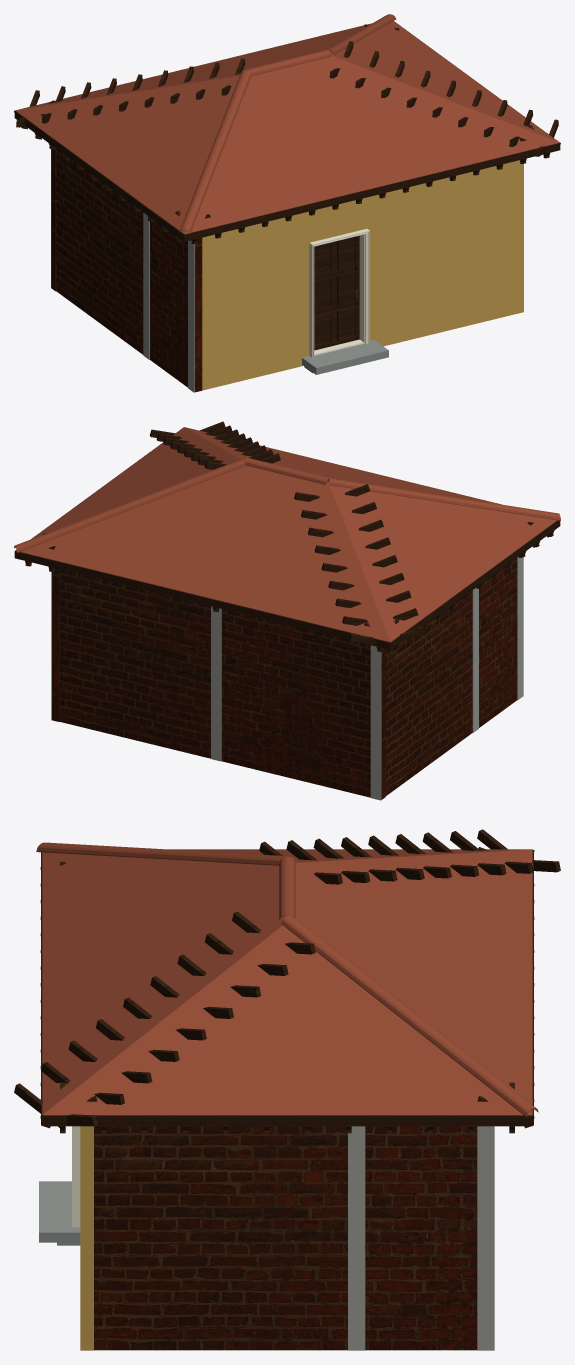
File: building.glb
The picture shows the model from 3 angles, top to bottom: view 1: azimuth 30°, elevation 25°; view 2: azimuth 150°, elevation 25°; view 3: azimuth 270°, elevation 25°; orthographic projection. The views are drawn at different scales.
Parts seen in each view (by area): view 1: house:0/edge0/z0/house:0/edge0/z0/wall_0_0, house:0/edge3/z0/house:0/edge3/z0/wall_0_0, roof_assembly/cubierta/roof_fascia#0004, site/entrance/0/entrance_step#0002, roof_assembly/cubierta/roof_fascia#0002, house:0/edge3/z0/house:0/edge3/z0/column_1_0, house:0/edge3/z0/house:0/edge3/z0/column_2_0, house:0/edge0/z0/opening_u2.80_v0.12/door_panel_back#0001, house:0/edge2/z0/house:0/edge2/z0/wall_0_0, house:0/edge0/z0/opening_u2.80_v0.12/door_moulding#0028, house:0/edge0/z0/opening_u2.80_v0.12/door_reveal#0001, house:0/edge0/z0/opening_u2.80_v0.12/door_leaf_frame#0001 (+3 smaller); view 2: house:0/edge2/z0/house:0/edge2/z0/wall_0_0, house:0/edge3/z0/house:0/edge3/z0/wall_0_0, roof_assembly/cubierta/roof_fascia#0008, house:0/edge2/z0/house:0/edge2/z0/column_1_0, house:0/edge2/z0/house:0/edge2/z0/column_2_0, roof_assembly/cubierta/roof_fascia#0002, house:0/edge1/z0/house:0/edge1/z0/wall_0_0, house:0/edge3/z0/house:0/edge3/z0/column_2_0, house:0/edge3/z0/house:0/edge3/z0/column_1_0; view 3: house:0/edge1/z0/house:0/edge1/z0/wall_0_0, roof_assembly/cubierta/roof_fascia#0006, house:0/edge1/z0/house:0/edge1/z0/column_1_0, house:0/edge1/z0/house:0/edge1/z0/column_2_0, house:0/edge0/z0/house:0/edge0/z0/wall_0_0, site/entrance/0/entrance_step#0002, house:0/edge0/z0/opening_u2.80_v0.12/door_moulding#0028.
Boxes of the visible parts, <box> form: house:0/edge0/z0/house:0/edge0/z0/wall_0_0: <box>202,160,523,390</box>; house:0/edge3/z0/house:0/edge3/z0/wall_0_0: <box>56,149,202,392</box>; roof_assembly/cubierta/roof_fascia#0004: <box>184,143,560,241</box>; site/entrance/0/entrance_step#0002: <box>302,340,388,374</box>; roof_assembly/cubierta/roof_fascia#0002: <box>14,111,184,241</box>; house:0/edge3/z0/house:0/edge3/z0/column_1_0: <box>188,240,194,392</box>; house:0/edge3/z0/house:0/edge3/z0/column_2_0: <box>143,212,149,359</box>; house:0/edge0/z0/opening_u2.80_v0.12/door_panel_back#0001: <box>314,241,355,341</box>; house:0/edge2/z0/house:0/edge2/z0/wall_0_0: <box>51,149,56,291</box>; house:0/edge0/z0/opening_u2.80_v0.12/door_moulding#0028: <box>309,229,369,357</box>; house:0/edge0/z0/opening_u2.80_v0.12/door_reveal#0001: <box>310,234,362,353</box>; house:0/edge0/z0/opening_u2.80_v0.12/door_leaf_frame#0001: <box>314,235,359,350</box>; house:0/edge2/z0/house:0/edge2/z0/wall_0_0: <box>60,569,385,799</box>; house:0/edge3/z0/house:0/edge3/z0/wall_0_0: <box>385,558,517,795</box>; roof_assembly/cubierta/roof_fascia#0008: <box>15,551,390,649</box>; house:0/edge2/z0/house:0/edge2/z0/column_1_0: <box>370,645,381,800</box>; house:0/edge2/z0/house:0/edge2/z0/column_2_0: <box>211,606,221,761</box>; roof_assembly/cubierta/roof_fascia#0002: <box>390,520,560,649</box>; house:0/edge1/z0/house:0/edge1/z0/wall_0_0: <box>52,568,59,721</box>; house:0/edge3/z0/house:0/edge3/z0/column_2_0: <box>472,588,478,732</box>; house:0/edge3/z0/house:0/edge3/z0/column_1_0: <box>517,557,523,700</box>; house:0/edge1/z0/house:0/edge1/z0/wall_0_0: <box>94,1126,477,1350</box>; roof_assembly/cubierta/roof_fascia#0006: <box>42,1115,532,1126</box>; house:0/edge1/z0/house:0/edge1/z0/column_1_0: <box>477,1126,494,1350</box>; house:0/edge1/z0/house:0/edge1/z0/column_2_0: <box>348,1126,365,1350</box>; house:0/edge0/z0/house:0/edge0/z0/wall_0_0: <box>80,1126,93,1350</box>; site/entrance/0/entrance_step#0002: <box>39,1181,80,1242</box>; house:0/edge0/z0/opening_u2.80_v0.12/door_moulding#0028: <box>72,1126,80,1227</box>.
Bounding box in the file's own units: 9.92 × 5.6 × 7.92.
Materials: 8 (2 with a texture image).
